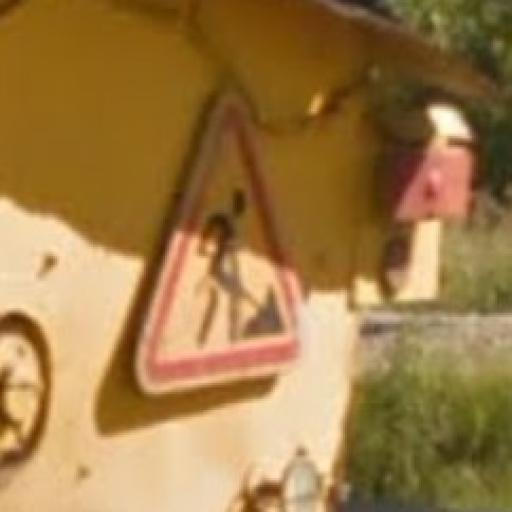traffic_sign: (130, 90, 308, 398)
